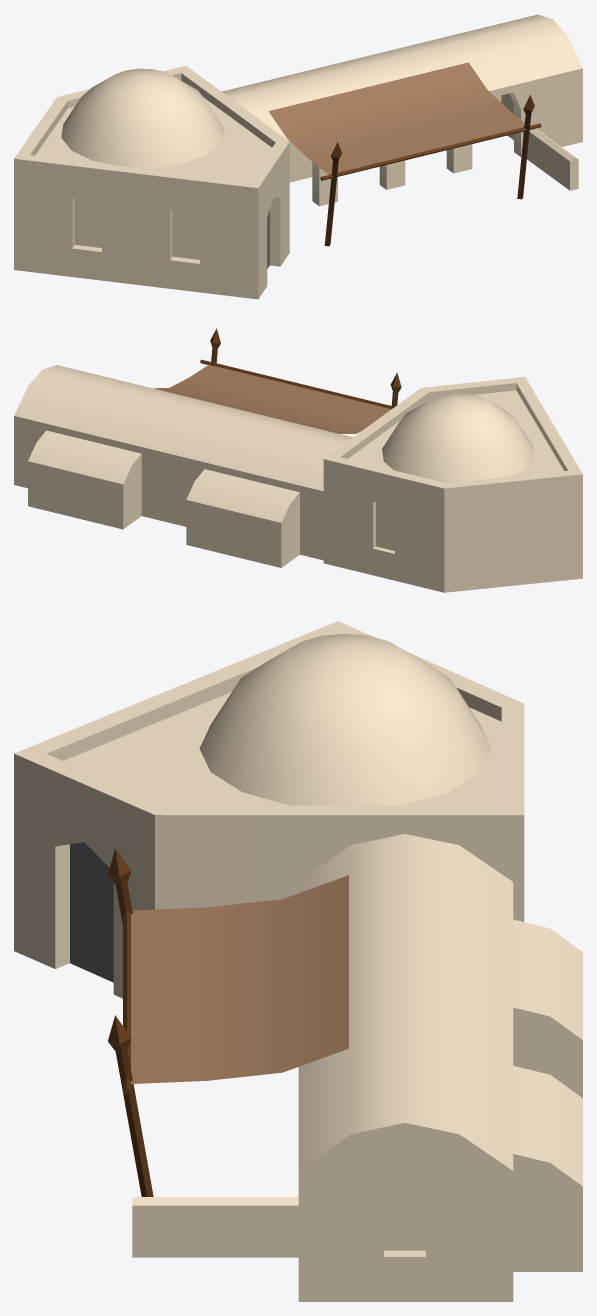
Rendered from cafe.glb.
The picture shows the model from 3 angles, top to bottom: view 1: azimuth 30°, elevation 25°; view 2: azimuth 150°, elevation 25°; view 3: azimuth 270°, elevation 25°; orthographic projection. The views are drawn at different scales.
Visible parts, largest first — view 1: Cafe; view 2: Cafe; view 3: Cafe.
Part boxes in pixels (<box>): Cafe: <box>14,14,582,299</box>; Cafe: <box>14,328,582,592</box>; Cafe: <box>14,621,582,1301</box>.
Bounding box in the file's own units: 97.27 × 26.77 × 48.39.
